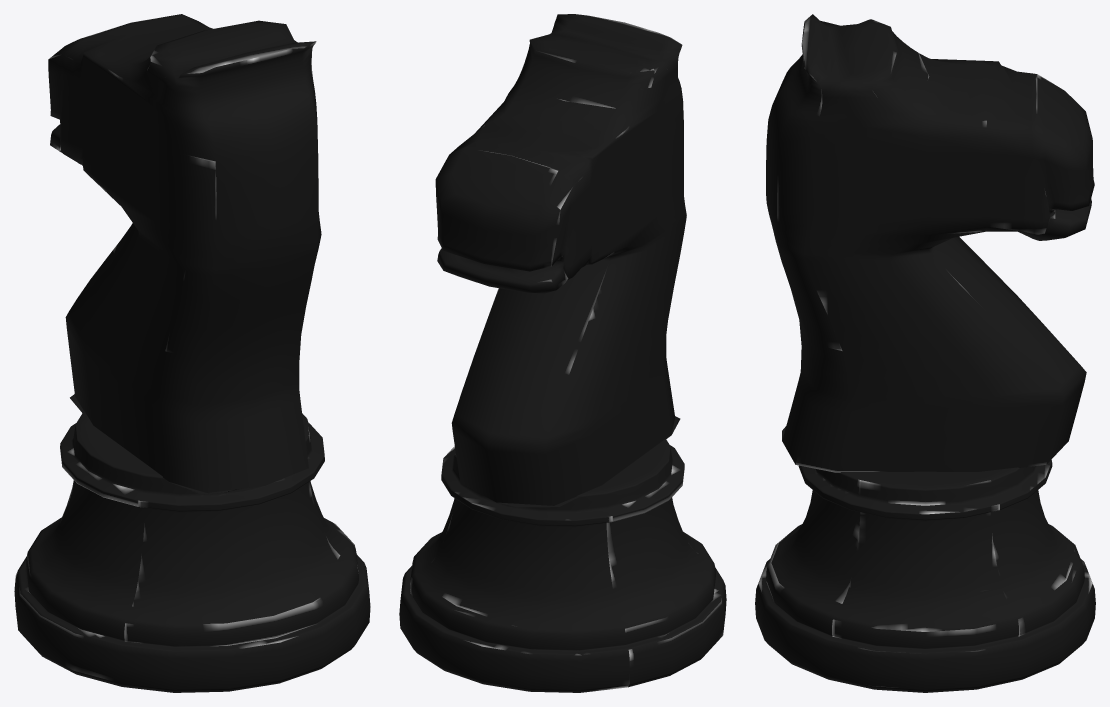
The model's file is Horse_Black.fbx.
The picture shows the model from 3 angles, left to right: view 1: azimuth 30°, elevation 25°; view 2: azimuth 150°, elevation 25°; view 3: azimuth 270°, elevation 25°; orthographic projection. The views are drawn at different scales.
Parts seen in each view (by area): view 1: pCube5.001; view 2: pCube5.001; view 3: pCube5.001.
Part boxes in pixels (x1,y1,x2,y2): pCube5.001: (14, 14, 370, 692); pCube5.001: (399, 14, 726, 692); pCube5.001: (755, 14, 1095, 692).
Bounding box in the file's own units: 2.27 × 4.27 × 2.27.
